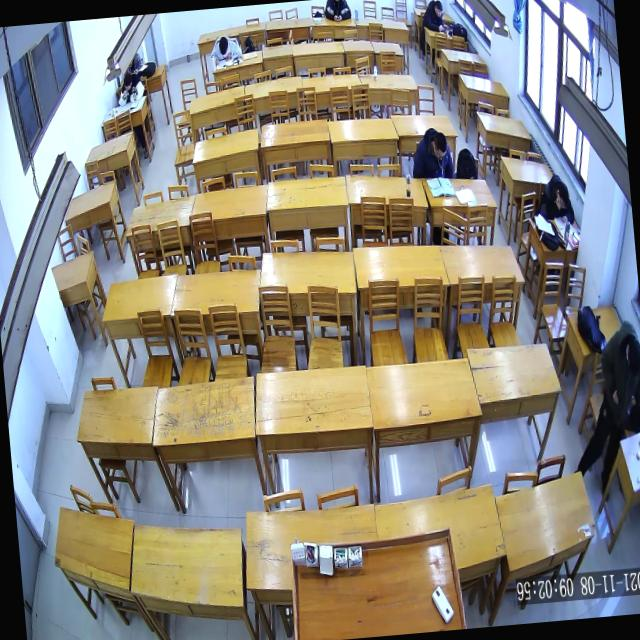bow: (536, 172, 574, 225), (210, 33, 242, 65), (421, 0, 448, 32)
down: (115, 72, 146, 106), (432, 130, 448, 160), (554, 180, 570, 210), (218, 34, 228, 54), (122, 74, 132, 91), (433, 0, 443, 17)
sit: (408, 126, 453, 182)
